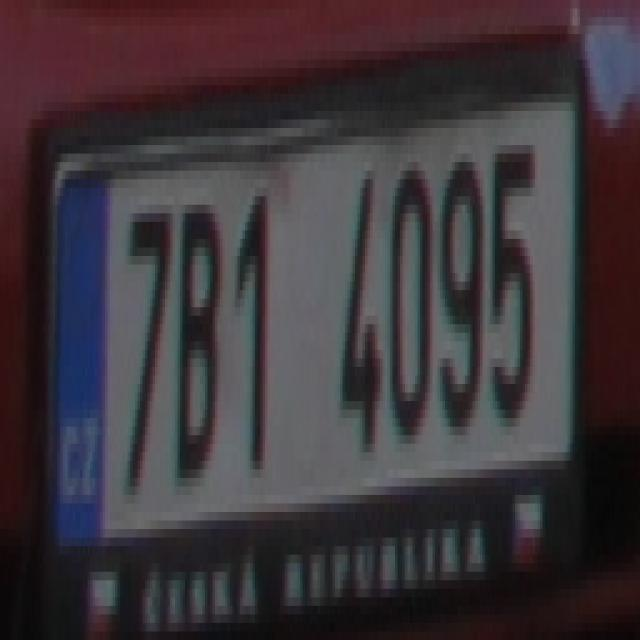0: (390, 154, 432, 435)
1: (230, 171, 270, 469)
4: (335, 162, 385, 461)
5: (487, 137, 535, 435)
7: (120, 196, 172, 504)
9: (435, 136, 485, 444)
B: (175, 188, 225, 486)
